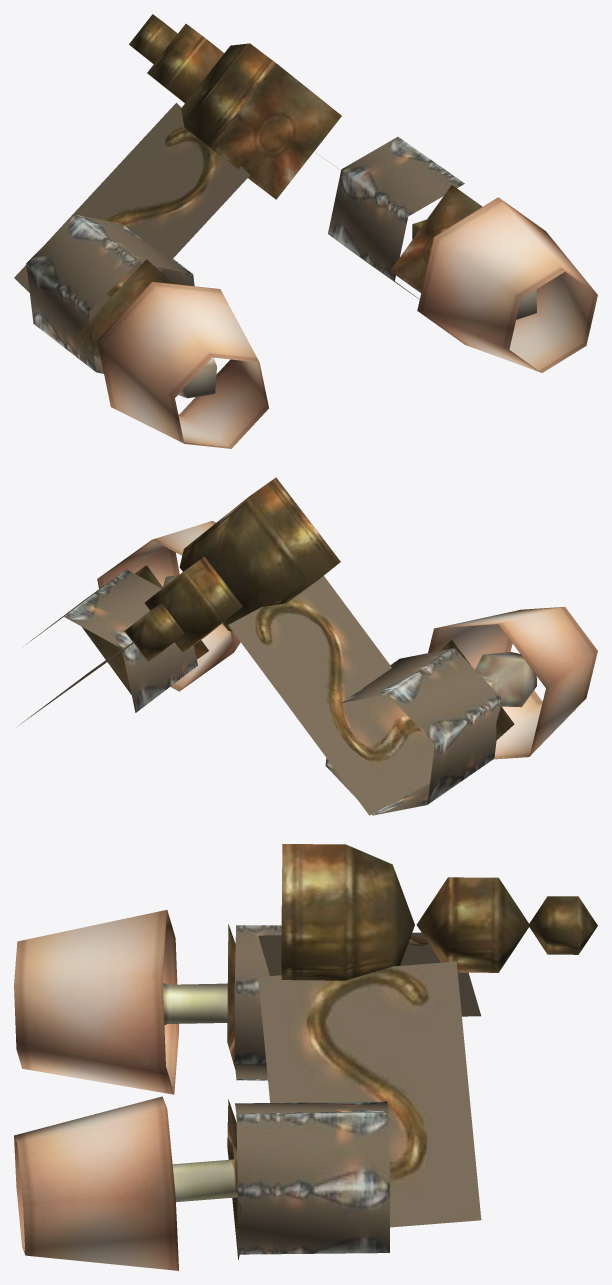
File: light_walllightcrystal_off.glb
3 renders of one model, top to bottom at view 1: azimuth 30°, elevation 25°; view 2: azimuth 150°, elevation 25°; view 3: azimuth 270°, elevation 25°, orthographic. The views are drawn at different scales.
Bounding box in the file's own units: 17.73 × 10.68 × 16.98.
Materials: 2 (2 with a texture image).
